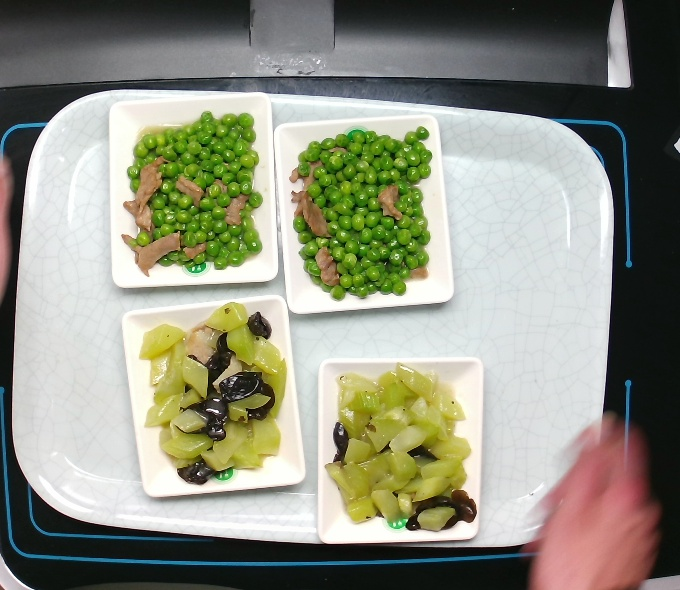wcq-CanDouRouSi: (283, 121, 457, 300), (107, 108, 281, 287)
wcq-WoSunKuai: (132, 299, 292, 488), (321, 360, 487, 542)
